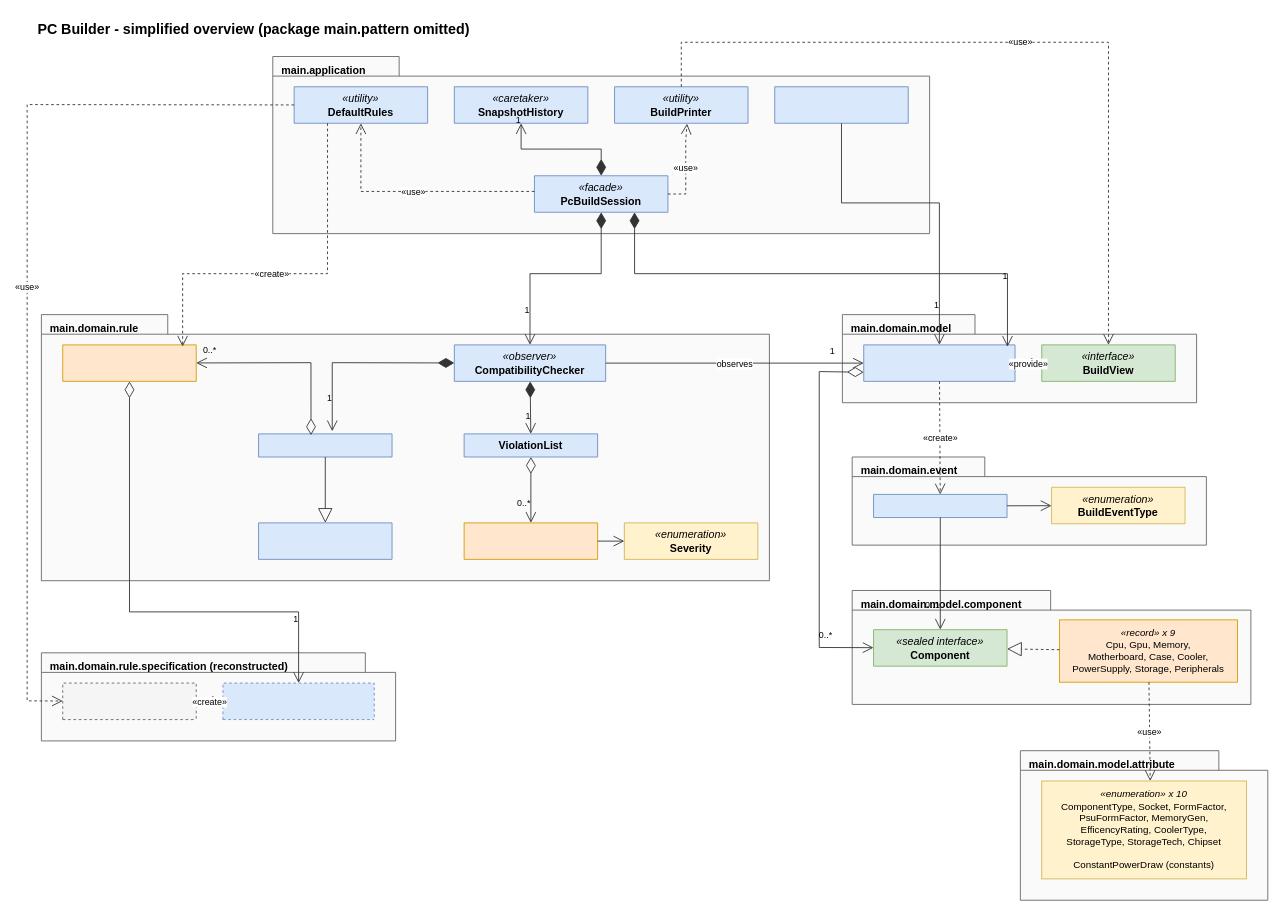
Some shapes in this 1283 by 916 pixel diagram are drawn without their labels. The centre of each missing label's shape, as x and y in pixels:
BuildEvent: [940,506]
RulesRegistry: [325,445]
«abstract» InvertedIndexMap: [325,540]
«record» BuildRule: [129,362]
«record» Violation: [530,540]
«specification» BuildSpecification: [298,701]
«subject, originator» PcBuilder: [939,362]
«unused» Checkout: [841,104]
«utility» Specs: [129,701]
